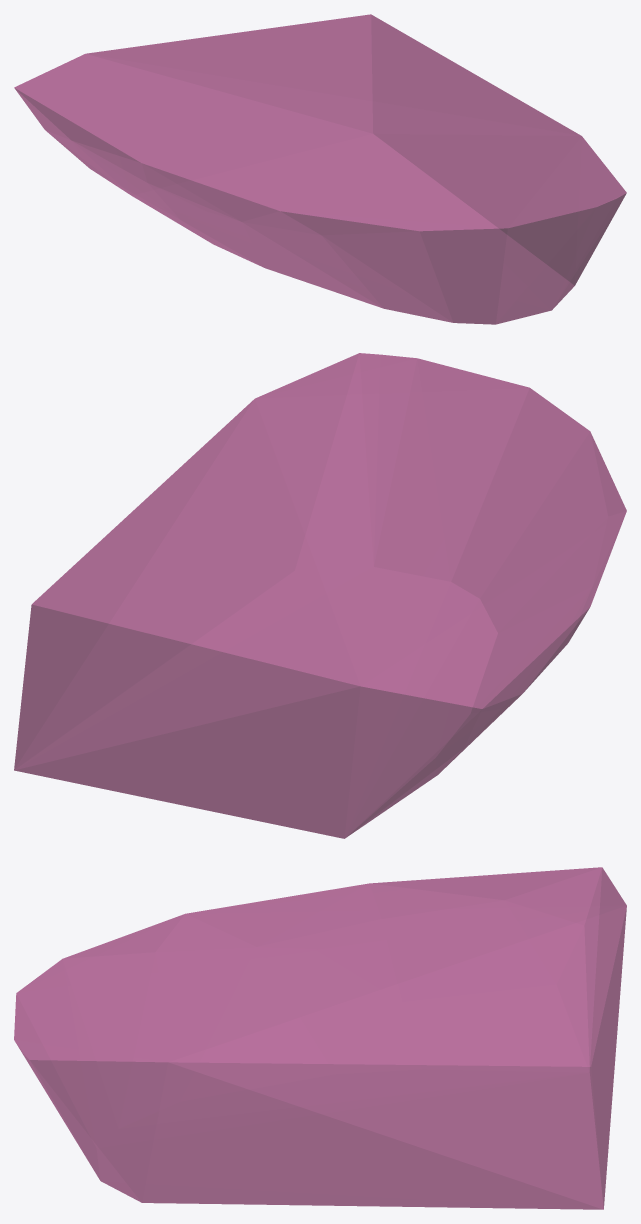
3 renders of one model, top to bottom at view 1: azimuth 30°, elevation 25°; view 2: azimuth 150°, elevation 25°; view 3: azimuth 270°, elevation 25°, orthographic. The views are drawn at different scales.
Parts seen in each view (by area): view 1: Shape_IndexedFaceSet.007_Shape_IndexedFaceSet.7493; view 2: Shape_IndexedFaceSet.007_Shape_IndexedFaceSet.7493; view 3: Shape_IndexedFaceSet.007_Shape_IndexedFaceSet.7493.
Boxes of the visible parts, x1,y1,x2,y2 form: Shape_IndexedFaceSet.007_Shape_IndexedFaceSet.7493: [14, 14, 626, 324]; Shape_IndexedFaceSet.007_Shape_IndexedFaceSet.7493: [14, 353, 626, 838]; Shape_IndexedFaceSet.007_Shape_IndexedFaceSet.7493: [14, 867, 626, 1209].
Bounding box in the file's own units: 0.426 × 0.1534 × 0.5509.
